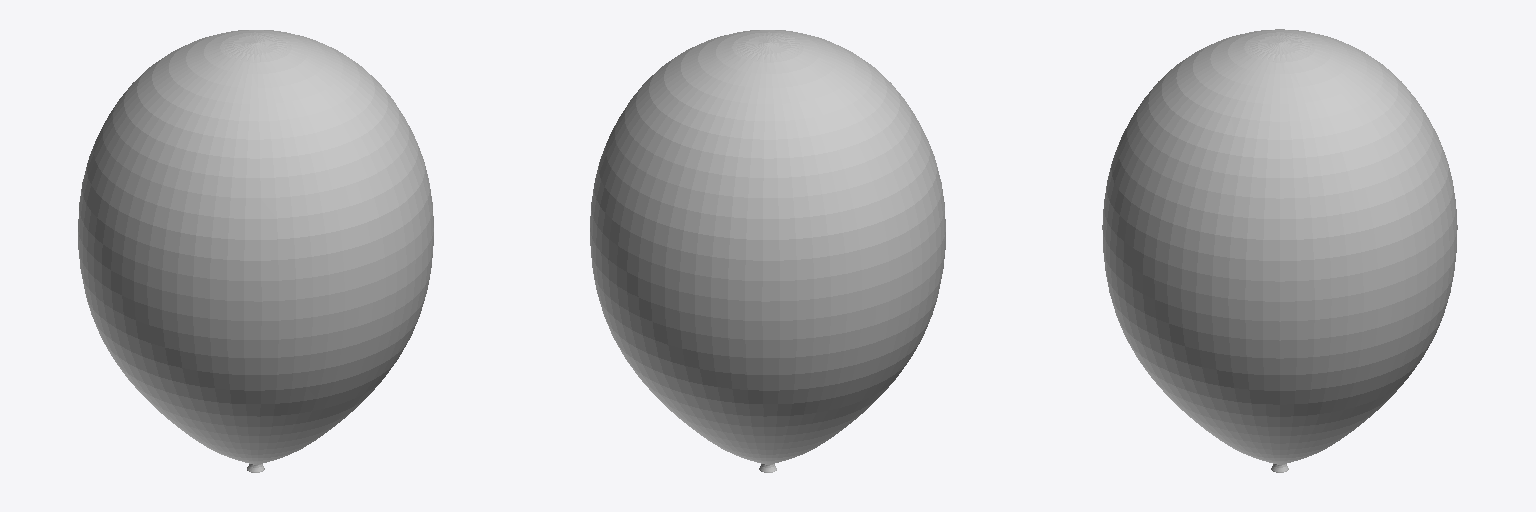
The model's file is Globo18.obj.
The picture shows the model from 3 angles: view 1: azimuth 30°, elevation 25°; view 2: azimuth 150°, elevation 25°; view 3: azimuth 270°, elevation 25°; orthographic projection.
Visible parts, largest first — view 1: Sphere.014; view 2: Sphere.014; view 3: Sphere.014.
Boxes of the visible parts, box(x1,y1,x2,y2) form: Sphere.014: box(78, 30, 433, 472); Sphere.014: box(590, 30, 945, 472); Sphere.014: box(1102, 29, 1457, 472).
Bounding box in the file's own units: 0.5211 × 0.688 × 0.519.